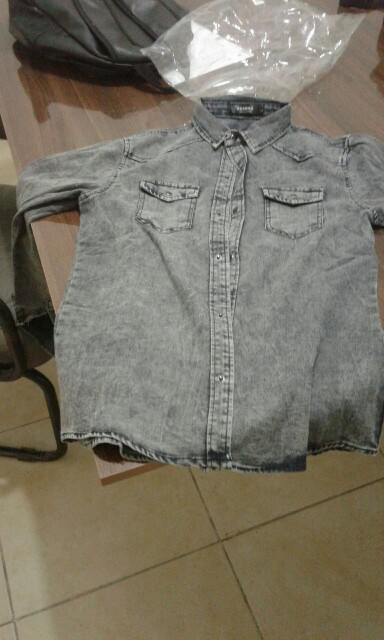shirts: (22, 94, 384, 457)
